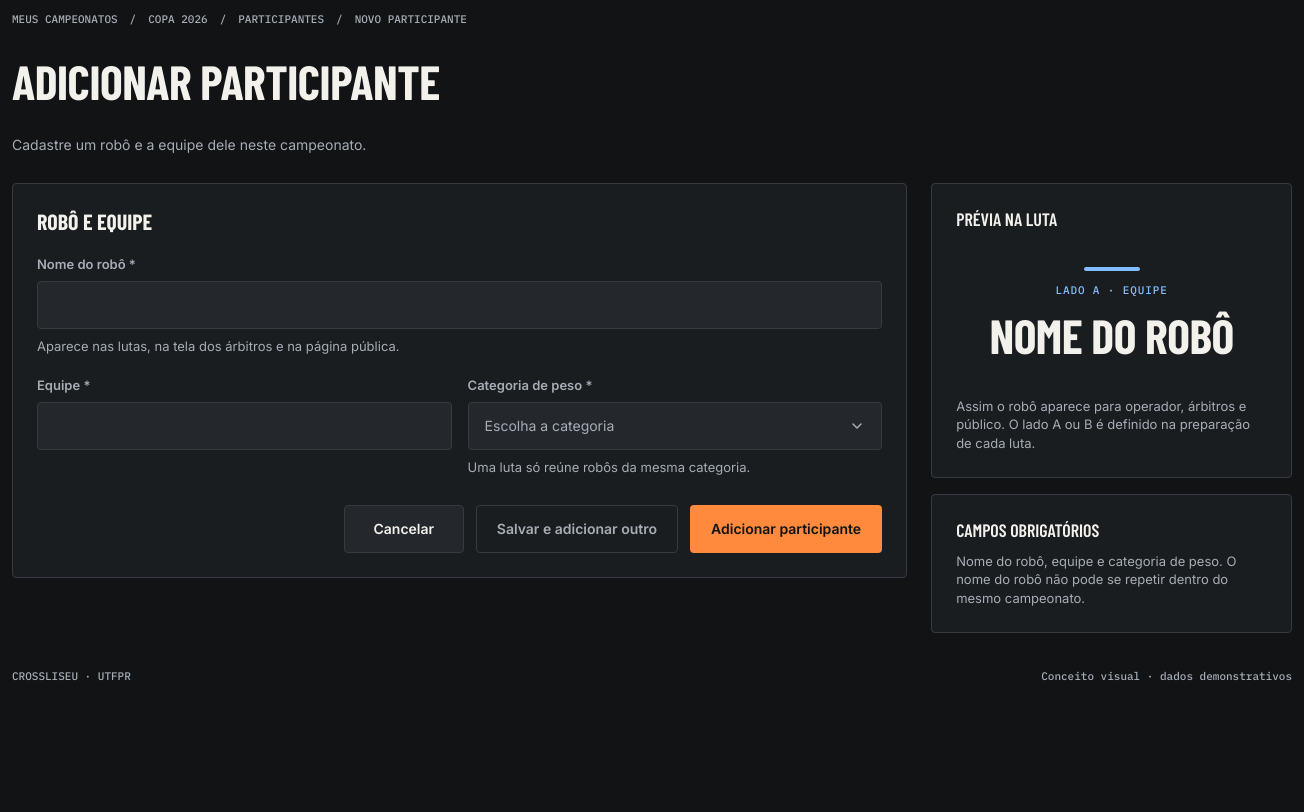
Test: ParticipantFormView › updates the preview as the user types
The image size is (1304, 812).
Expected: the element with class "competitor-tile" shows "Lado A · Equipe", [1056,283,1168,297]
Expected: the element with class "competitor-tile" shows "Nome do robô", [989,306,1234,364]
Type "Titã" into the field named "name".
click(460, 305); type("Titã")  # box [37,281,882,329]
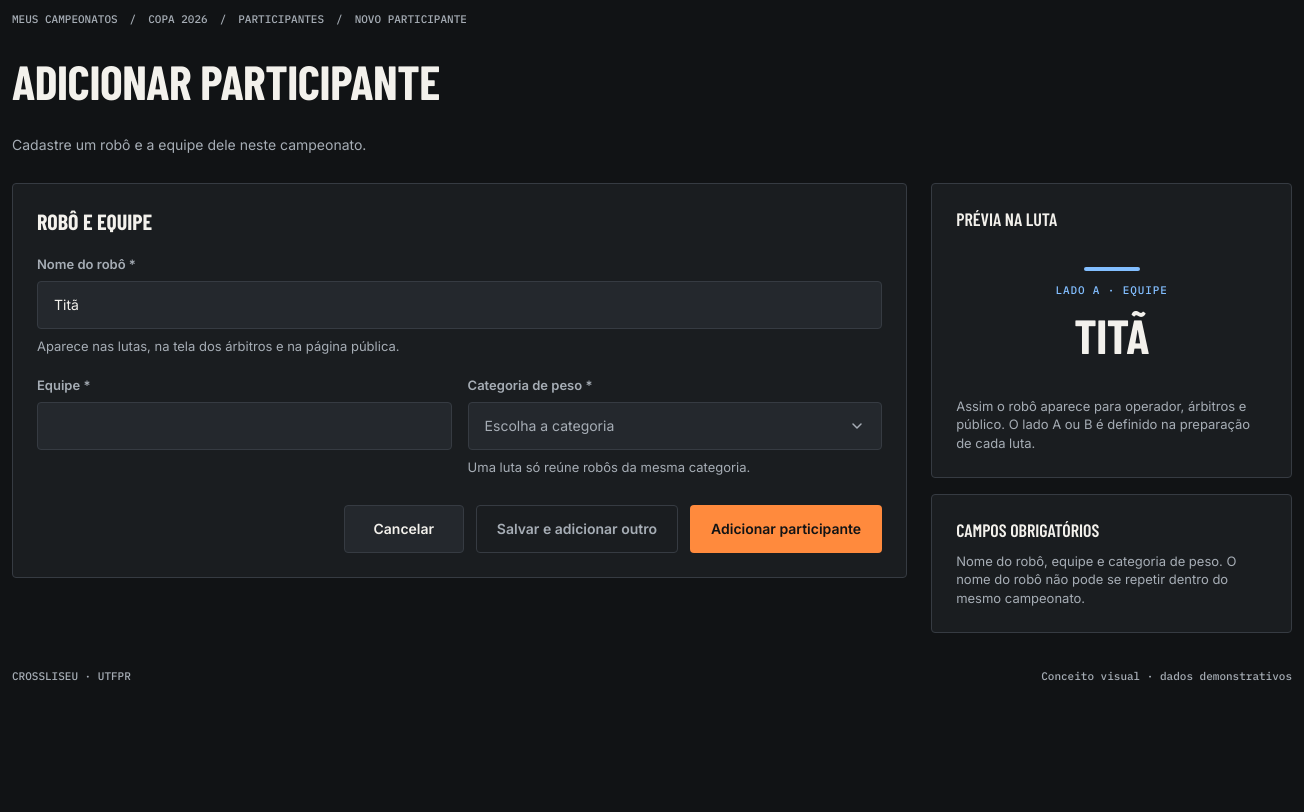
Type "Equipe Volt" into the field labelled "Equipe *".
click(244, 426); type("Equipe Volt")  # box [37,402,452,450]
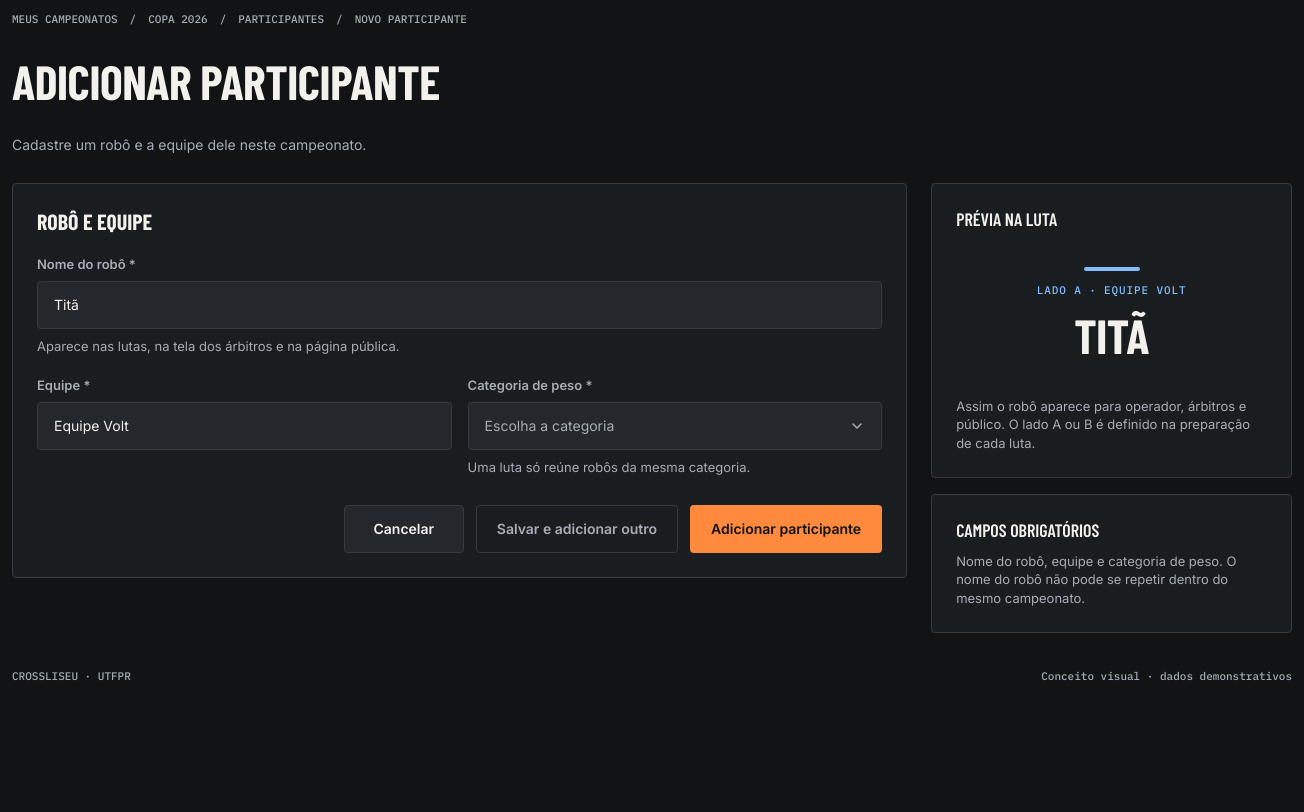
Click the dropdown labelled "Escolha a categoria".
click(675, 426)  # box [468,402,882,450]
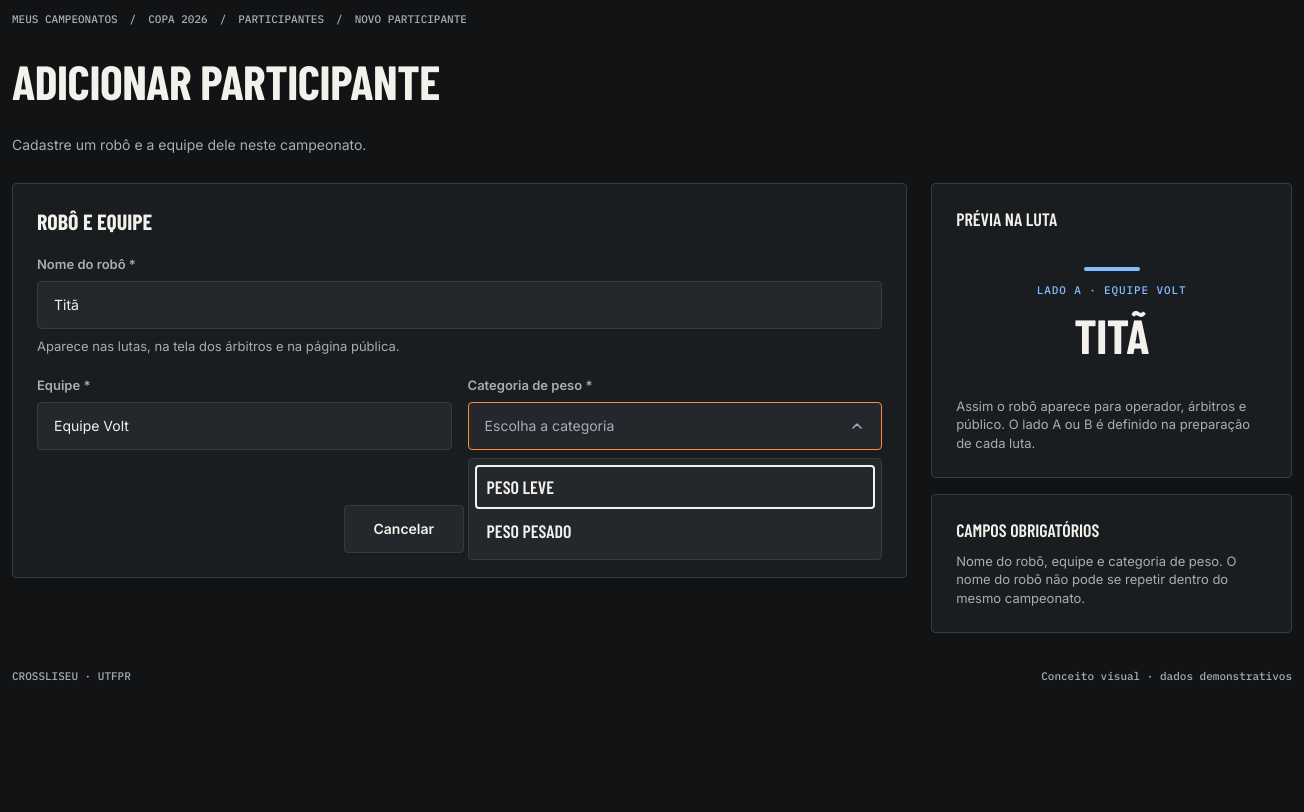
Click the option "Peso pesado".
click(529, 531)  # box [487,520,572,542]
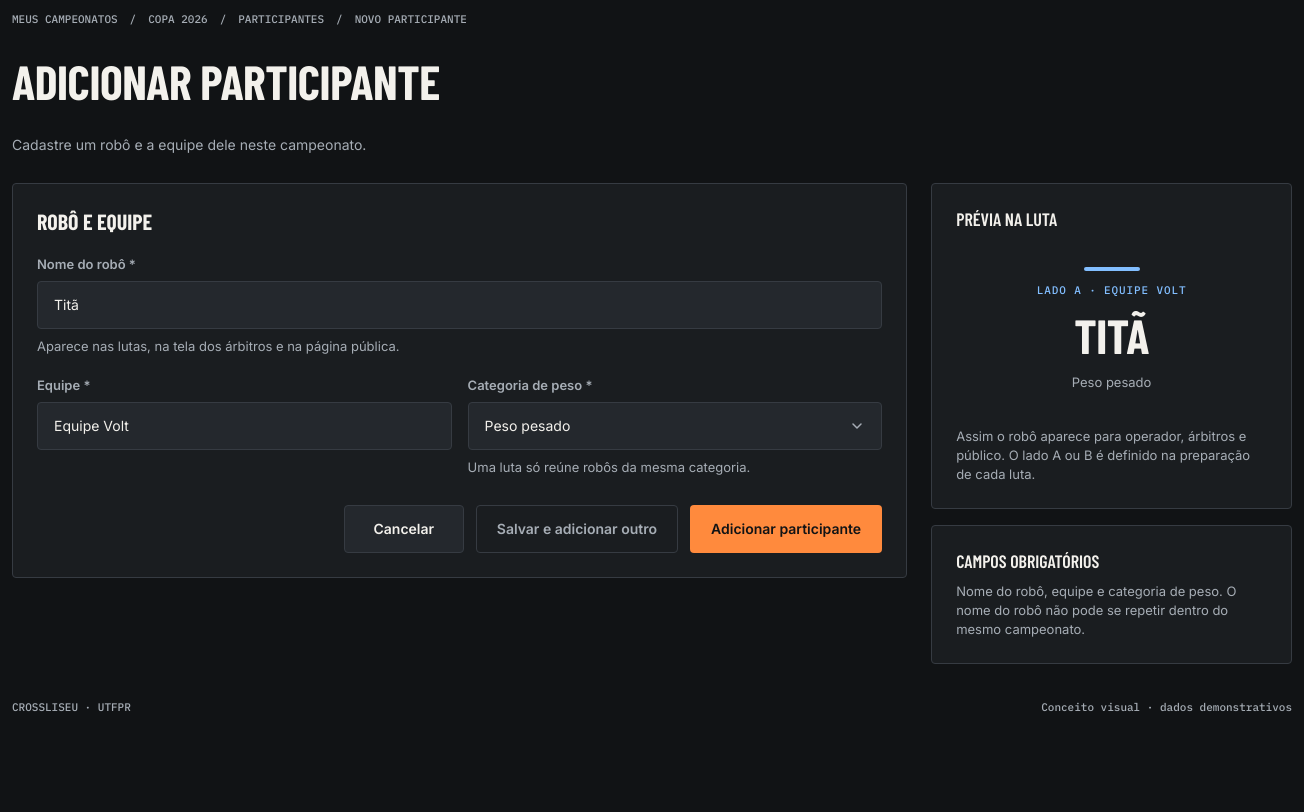
Now the element with class "competitor-tile" shows "Lado A · Equipe Volt", box [1037,283,1186,297]
Now the element with class "competitor-tile" shows "Titã", box [1074,306,1149,364]
Now the element with class "competitor-tile" shows "Peso pesado", box [1072,374,1151,390]
